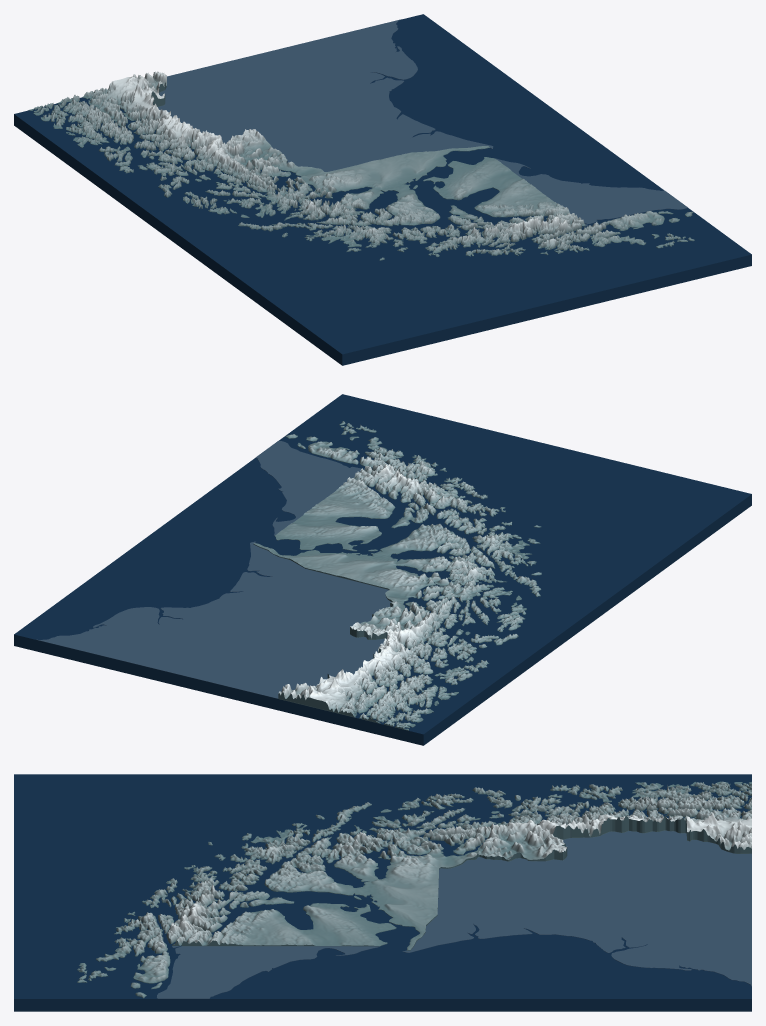
Rendered from region_magallanes.glb.
3 views of the same model, one above another, from view 1: azimuth 30°, elevation 25°; view 2: azimuth 150°, elevation 25°; view 3: azimuth 270°, elevation 25° (orthographic). The views are drawn at different scales.
Visible parts, largest first — view 1: Mar, Magallanes, Argentina; view 2: Mar, Magallanes, Argentina; view 3: Mar, Magallanes, Argentina.
Part boxes in pixels (x1,y1,x2,y2): Mar: [14, 14, 751, 365]; Magallanes: [28, 71, 694, 260]; Argentina: [158, 19, 687, 225]; Mar: [14, 394, 751, 745]; Magallanes: [253, 421, 541, 730]; Argentina: [36, 440, 391, 698]; Mar: [14, 774, 751, 1011]; Magallanes: [77, 781, 751, 998]; Argentina: [156, 830, 751, 998].
Size of the model in its own units: 57.6 by 3.99 by 80.
